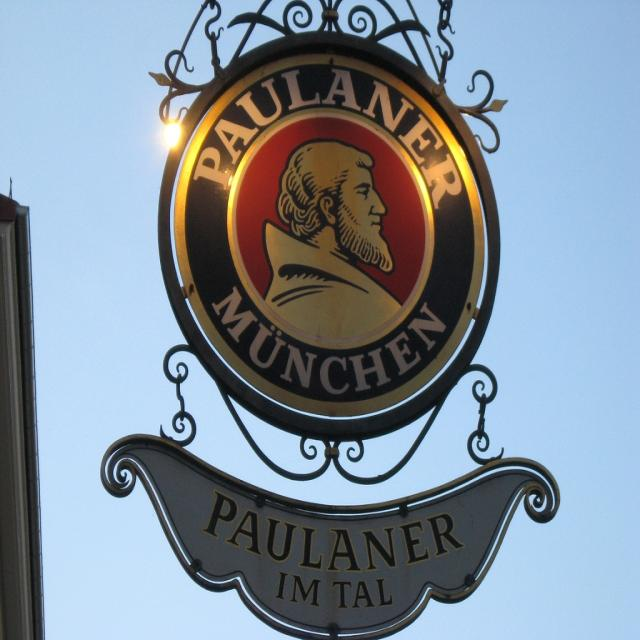paulaner: (175, 52, 487, 420)
